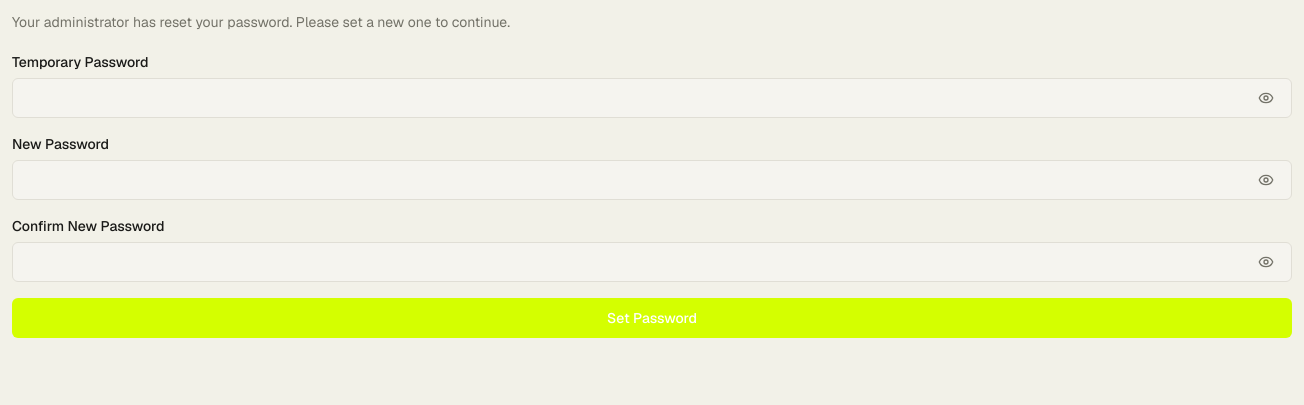
it: MustChangePasswordForm › requires confirm to match
The image size is (1304, 405).
Type "OldTemp1!" into the password field labelled "Temporary Password". click: (652, 98)
box: [12,78,1292,118]
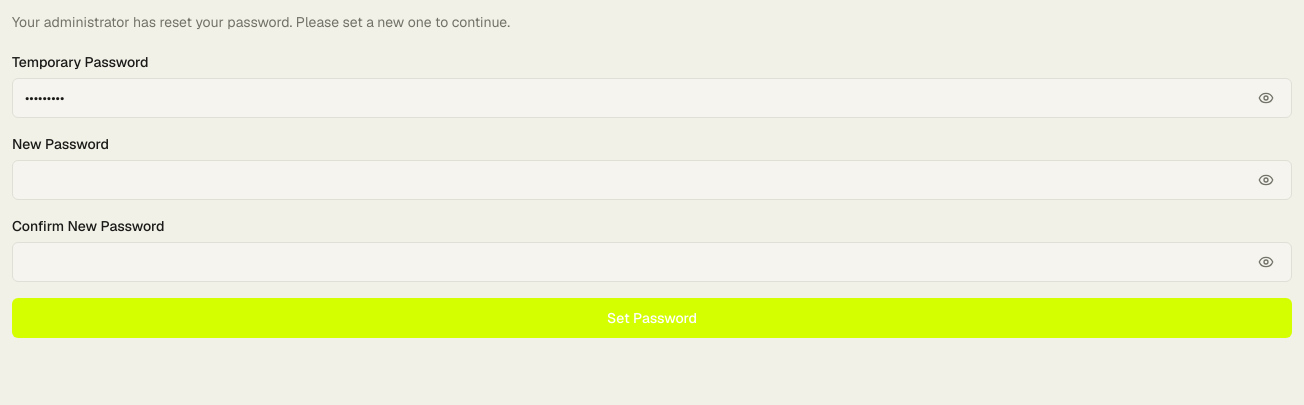
Type "Abcdefg1!" into the password field labelled "New Password". click: (652, 180)
box: [12,160,1292,200]
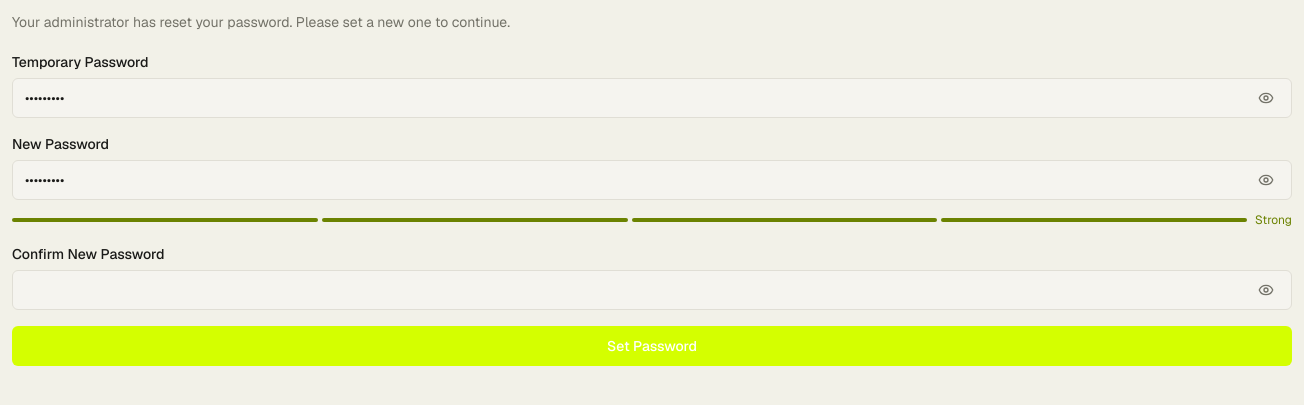
Type "Different1!" into the password field labelled "Confirm New Password". click: (652, 290)
box: [12,270,1292,310]
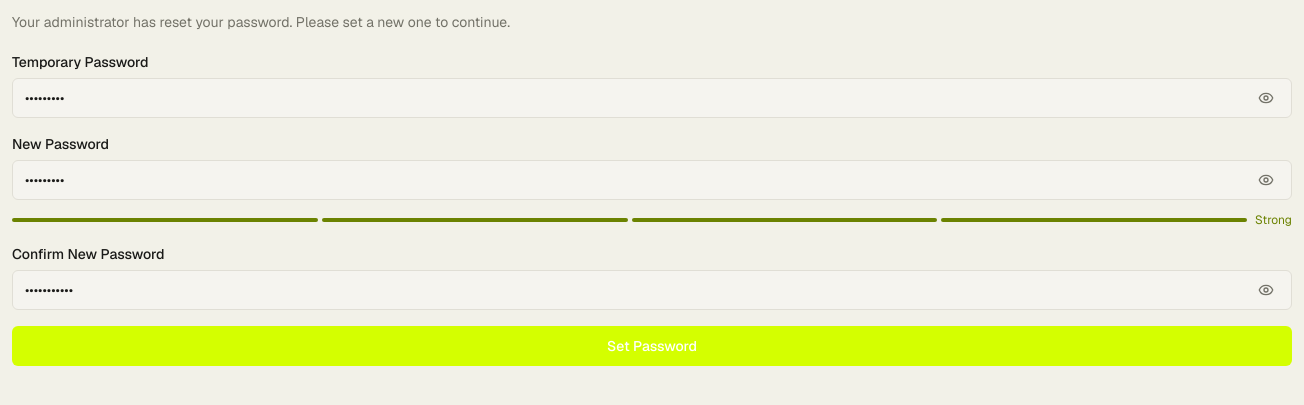
Click the button "Set Password". click: (652, 346)
box: [12,326,1292,366]
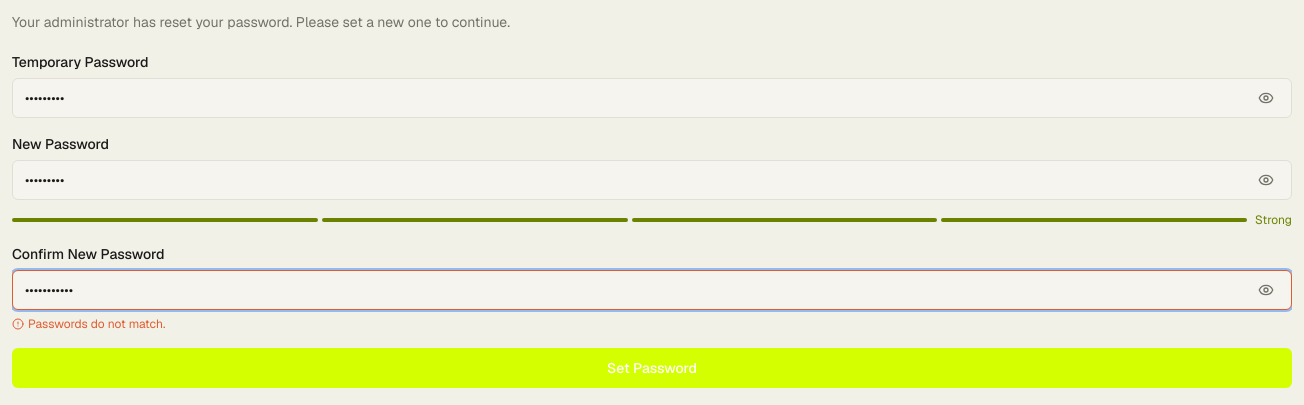
Now the text "Passwords do not match." is shown, box [12,316,165,332]
